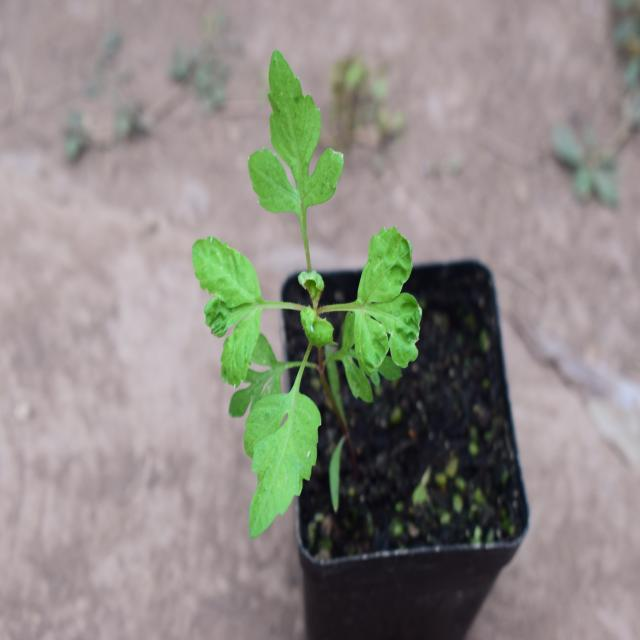Bidens pilosa: (186, 58, 434, 532)
